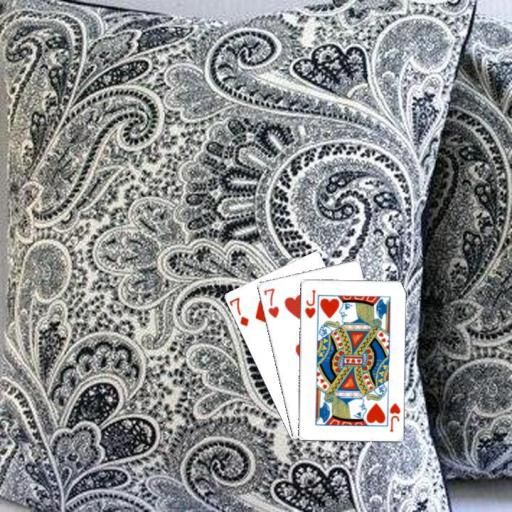7D: (227, 294, 250, 328)
7H: (260, 285, 280, 320)
JH: (302, 287, 317, 319), (386, 400, 401, 432)
